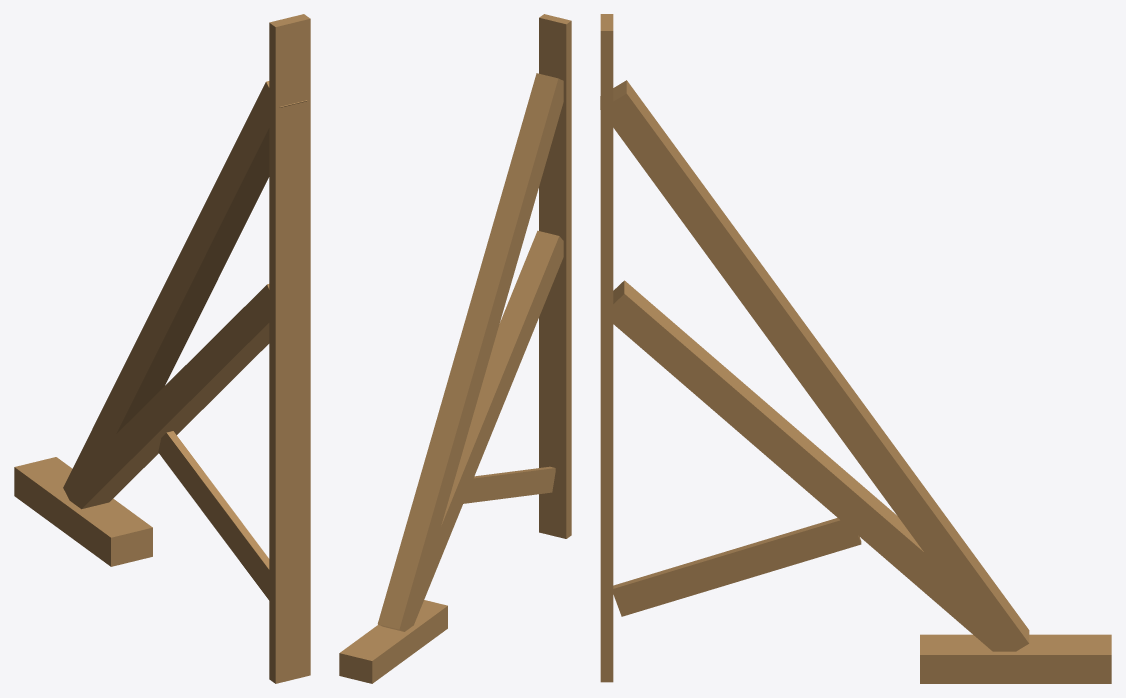
The model's file is plant.temporary.raking_shore.glb.
3 renders of one model, left to right at view 1: azimuth 30°, elevation 25°; view 2: azimuth 150°, elevation 25°; view 3: azimuth 270°, elevation 25°, orthographic. The views are drawn at different scales.
Visible parts, largest first — view 1: main__softwood; view 2: main__softwood; view 3: main__softwood.
Part boxes in pixels (box(x1,y1,x2,y2)): main__softwood: box(14, 14, 310, 683); main__softwood: box(339, 14, 571, 683); main__softwood: box(600, 14, 1111, 683).
Size of the model in its own units: 0.3 by 4.5 by 3.2.
